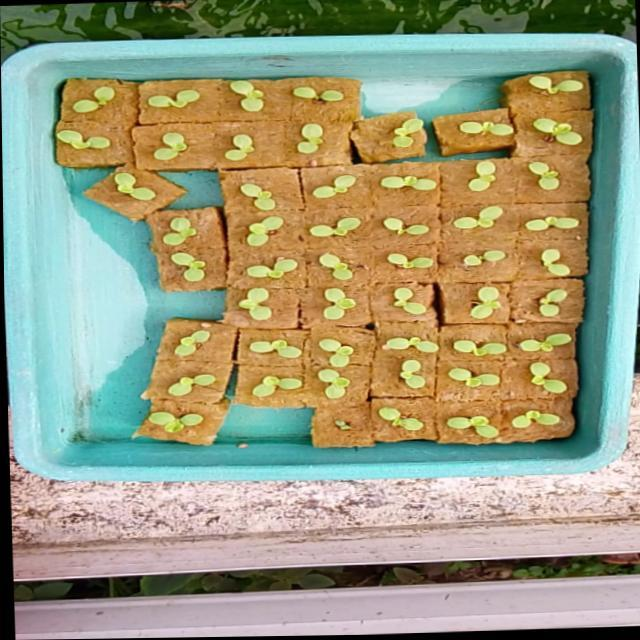Baby: (128, 174, 187, 216), (534, 159, 599, 193), (78, 87, 143, 121), (274, 341, 329, 371), (250, 221, 305, 251), (96, 123, 151, 152), (266, 257, 317, 287), (478, 255, 541, 278), (415, 291, 461, 322), (570, 294, 613, 327), (156, 95, 218, 117), (179, 216, 216, 252), (548, 339, 610, 359), (171, 419, 227, 441), (479, 209, 530, 233), (408, 415, 455, 441), (480, 425, 533, 448), (262, 292, 297, 326), (565, 369, 602, 401), (191, 379, 240, 403), (501, 291, 533, 326), (260, 185, 297, 215), (405, 220, 457, 241), (333, 221, 384, 242), (350, 292, 382, 325), (346, 344, 381, 374), (345, 374, 378, 405), (250, 85, 283, 116), (544, 418, 595, 438), (410, 343, 470, 360), (342, 257, 377, 286), (198, 335, 234, 363), (484, 346, 539, 364), (176, 137, 209, 166), (278, 387, 327, 406), (553, 218, 608, 234), (493, 164, 522, 194), (569, 253, 600, 280), (318, 126, 345, 157), (429, 367, 456, 397), (192, 265, 227, 288), (412, 257, 459, 274), (246, 138, 274, 165), (344, 179, 376, 202), (490, 380, 531, 394)
